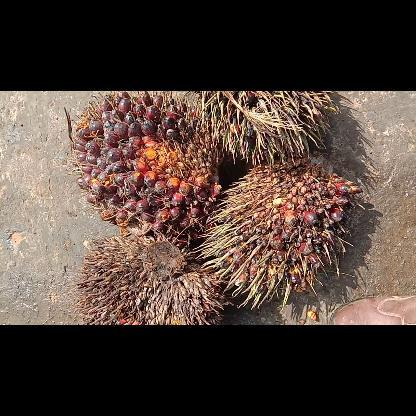Kurang masak: (196, 90, 340, 158)
TBS abnormal: (190, 157, 367, 304), (77, 230, 227, 324)
Terlalu masak: (65, 91, 221, 239)
